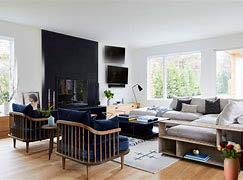copymove: (103, 45, 125, 64)
removal: (19, 61, 45, 91)
spliced: (217, 141, 243, 180)
